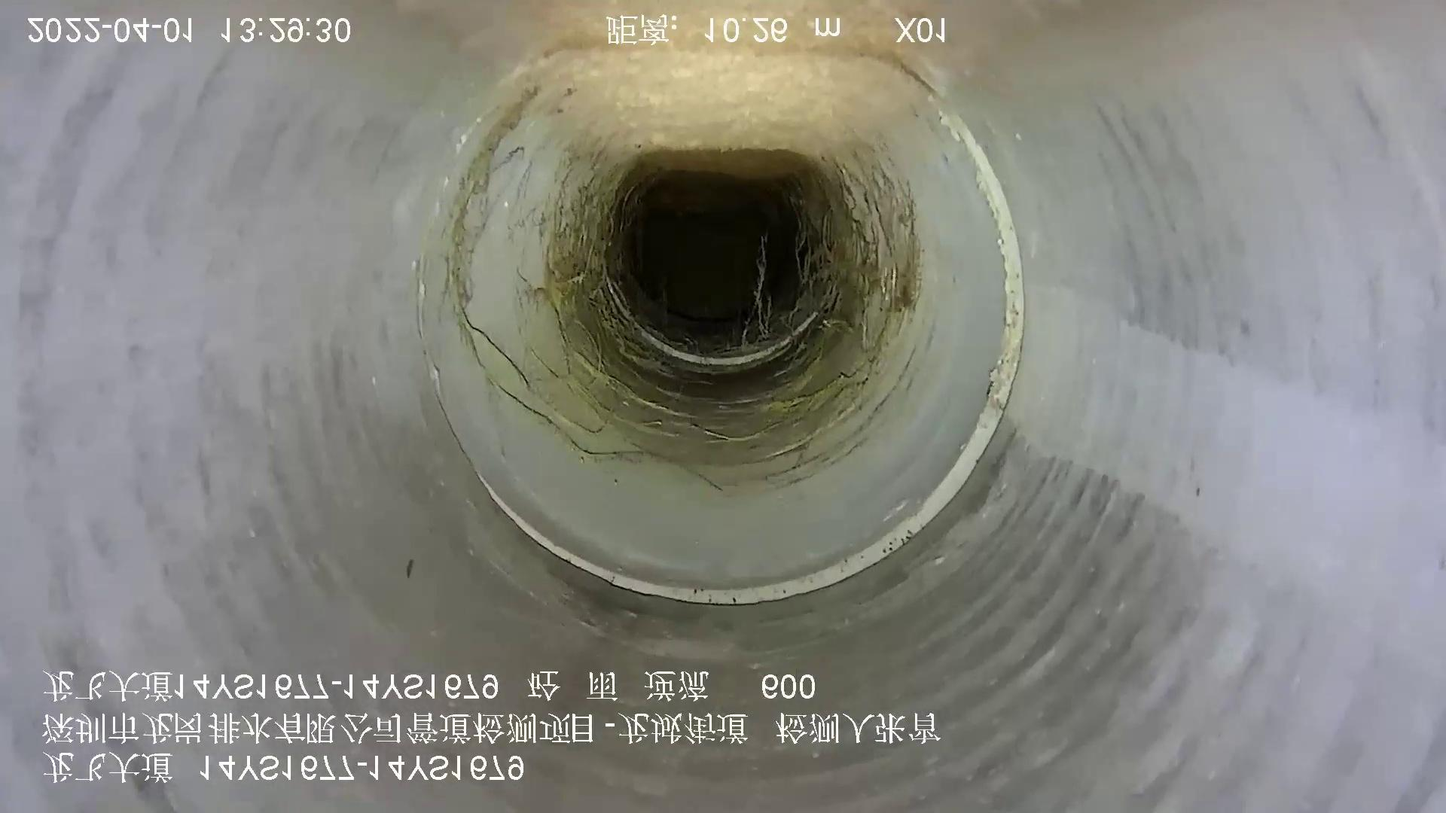CJ: (541, 49, 930, 209)
CKTJ: (480, 116, 1025, 606), (602, 250, 841, 368)
SG: (458, 98, 926, 465)
